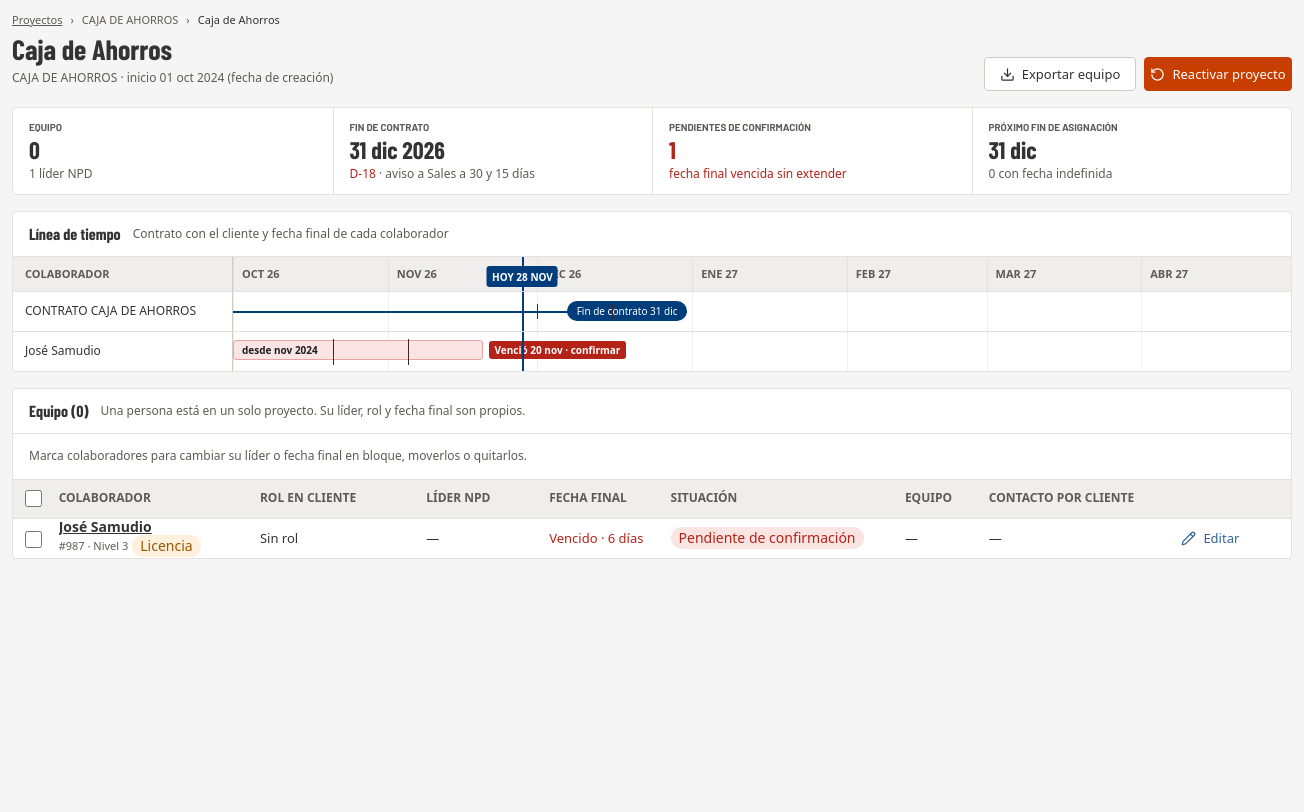
Test: ProjectDetailPage › reactivates an inactive project for Operations administrators
Click the button "Reactivar proyecto". click: (1218, 74)
box: [1144, 57, 1292, 91]
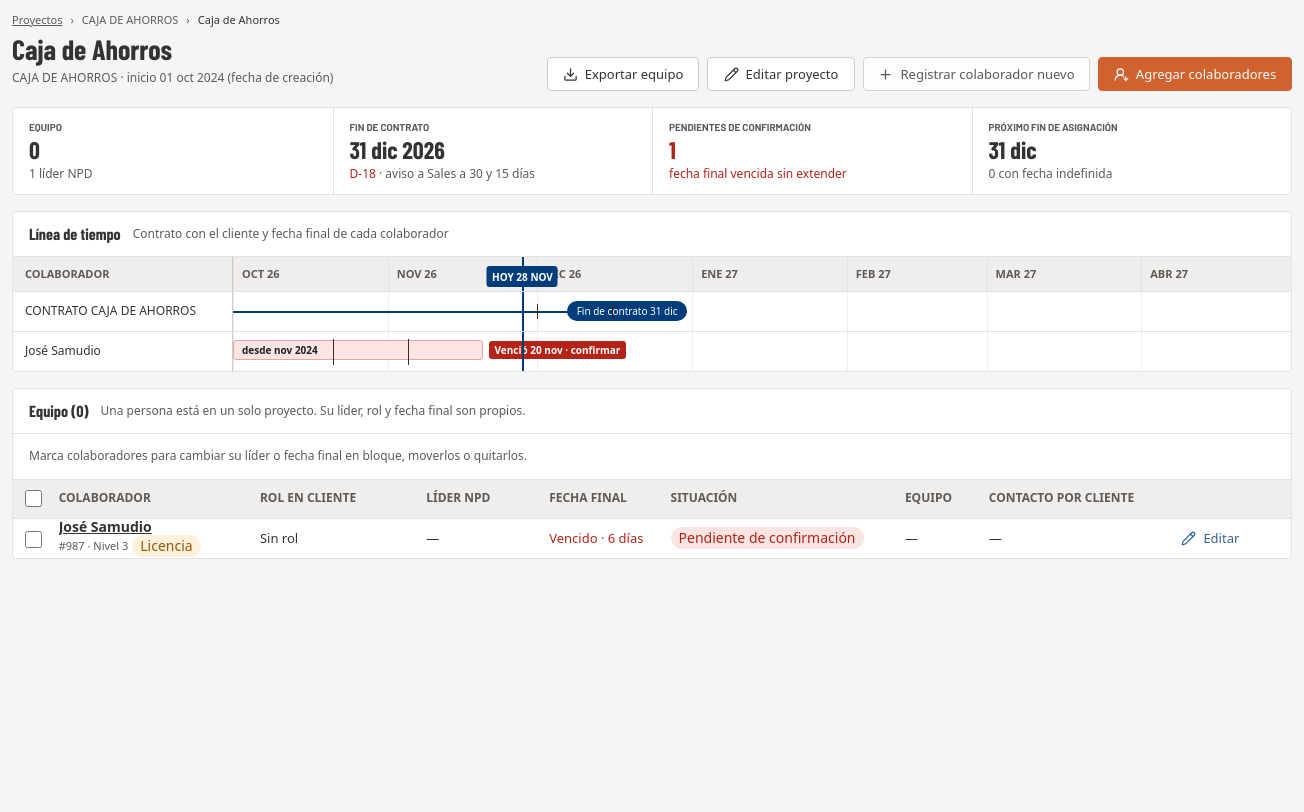
Now the button "Editar proyecto" is shown, box [707, 57, 855, 91]
